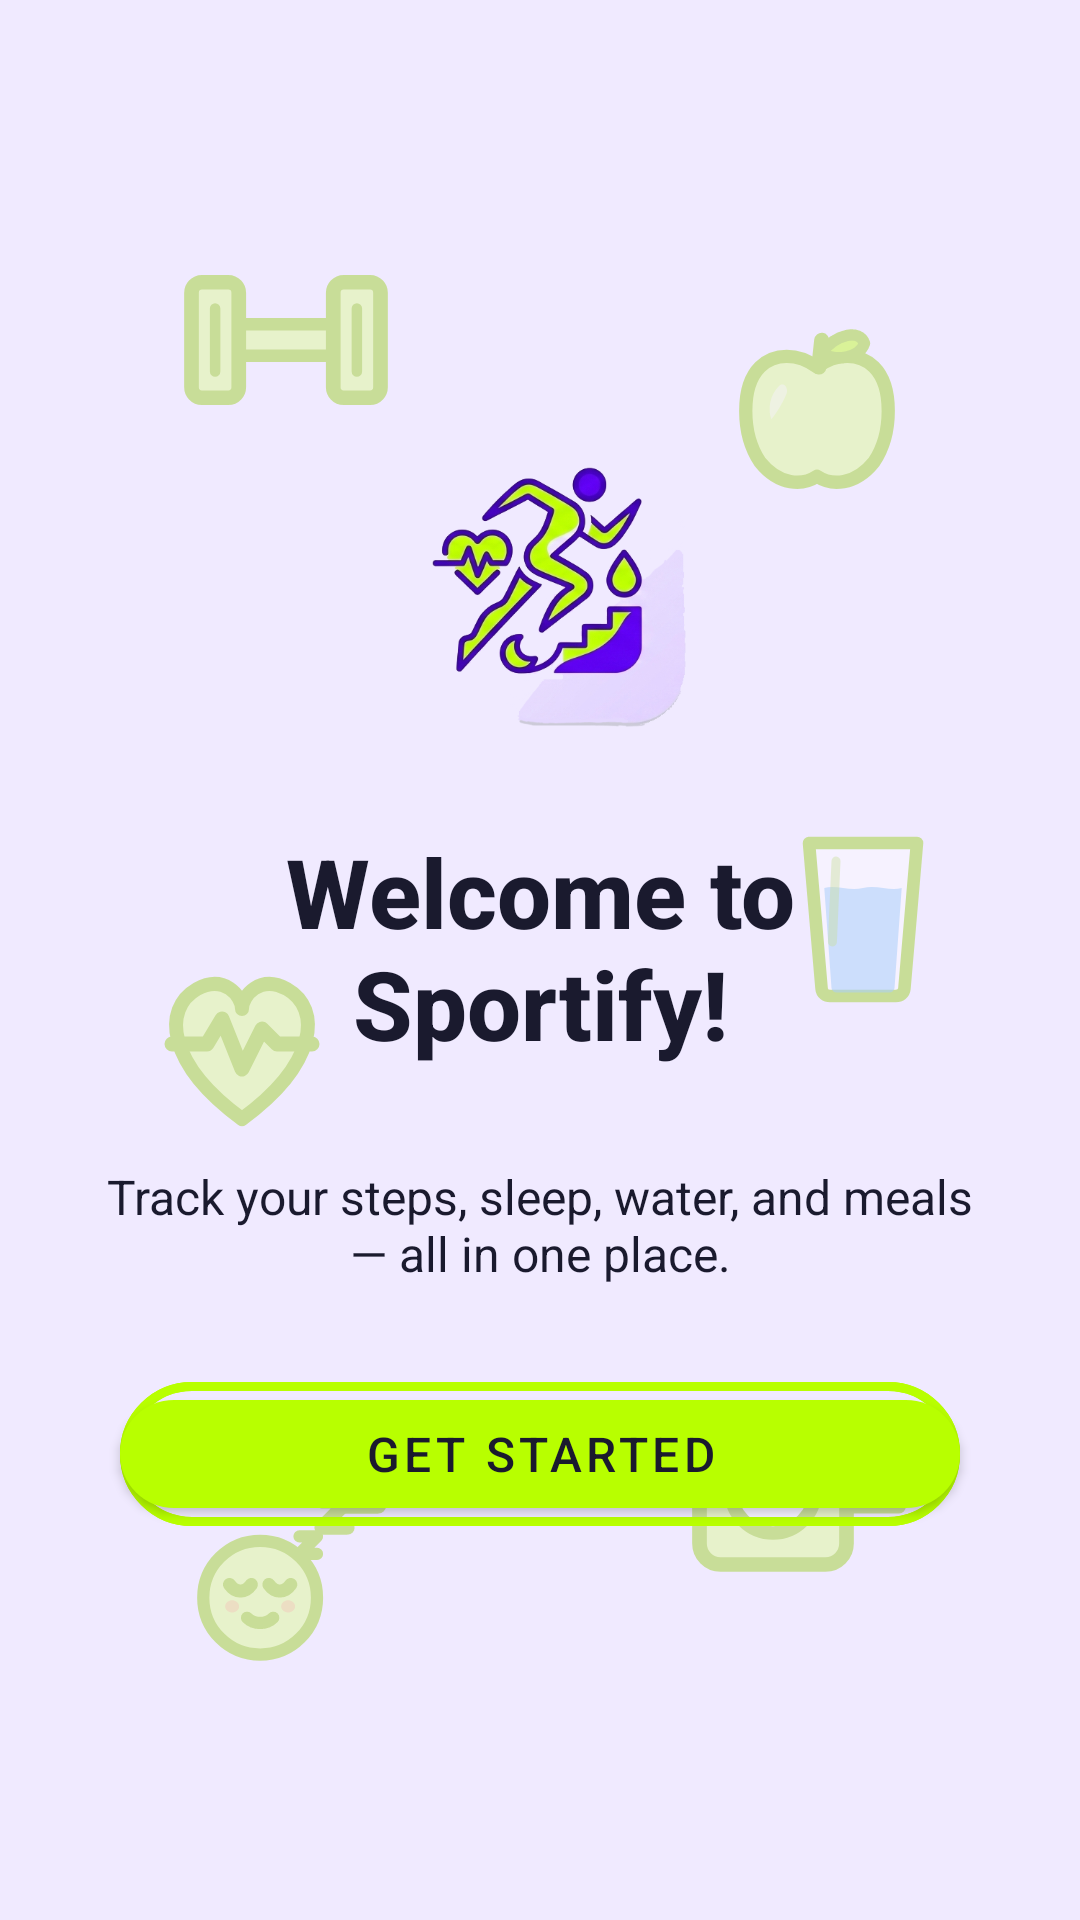

Locate icon controls on the screen. Image size 1080px x 1920px, boxes as (x1=x1, y1=y1, x2=x2, y2=y2).
apple: (x1=739, y1=329, x2=895, y2=489)
dumbbell: (x1=184, y1=275, x2=388, y2=405)
heart pulse: (x1=164, y1=977, x2=320, y2=1126)
water glass: (x1=802, y1=836, x2=924, y2=1003)
